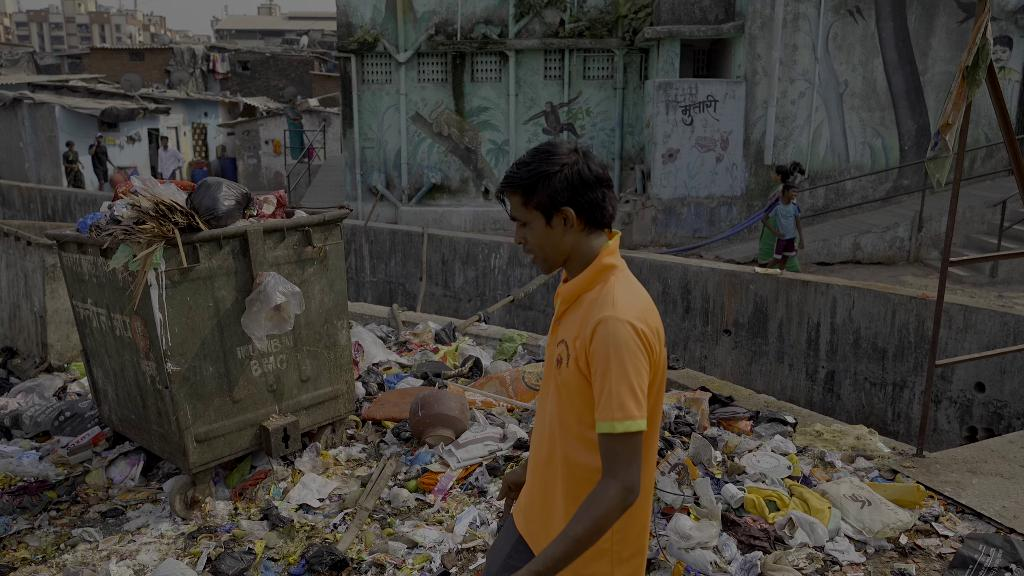dustbin: (45, 206, 343, 480)
garbage: (821, 468, 916, 551), (245, 270, 309, 355), (183, 176, 253, 233), (350, 321, 415, 372), (204, 540, 258, 576), (303, 543, 351, 576)
